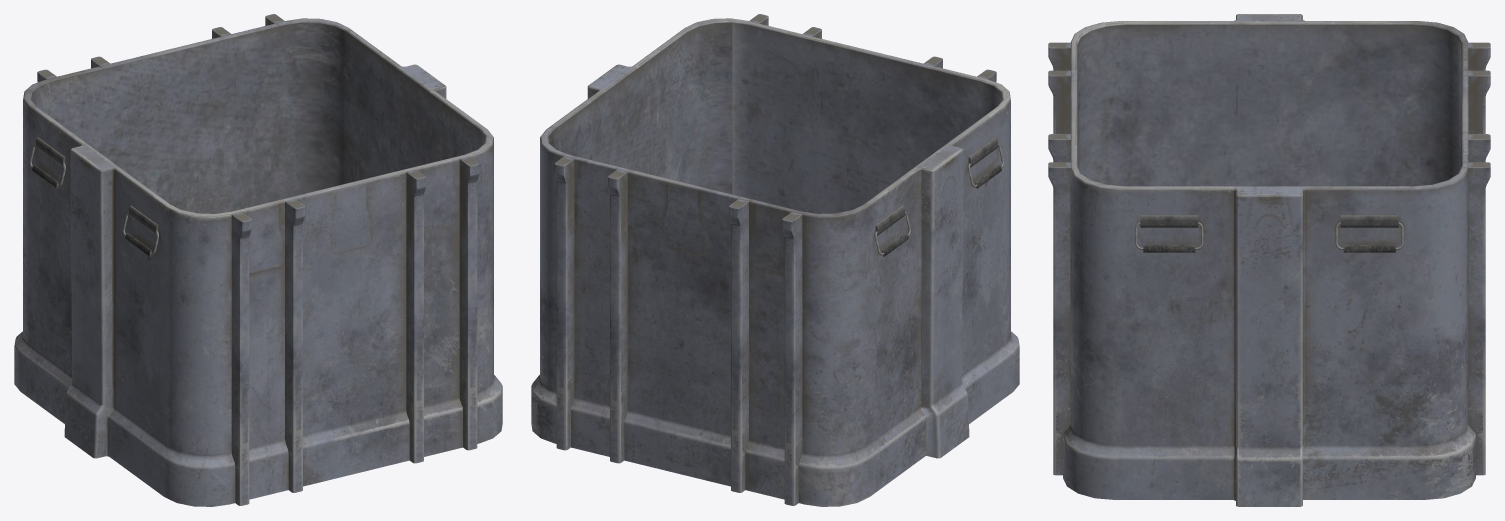
Rendered from SM_Crate_Open.glb.
The picture shows the model from 3 angles, left to right: view 1: azimuth 30°, elevation 25°; view 2: azimuth 150°, elevation 25°; view 3: azimuth 270°, elevation 25°; orthographic projection. The views are drawn at different scales.
Parts seen in each view (by area): view 1: SM_Crate_Open; view 2: SM_Crate_Open; view 3: SM_Crate_Open.
Boxes of the visible parts, x1,y1,x2,y2 form: SM_Crate_Open: (14,14,502,506); SM_Crate_Open: (531,14,1019,506); SM_Crate_Open: (1048,14,1490,506).
Bounding box in the file's own units: 1.01 × 0.7691 × 1.
Materials: 1 (1 with a texture image).
